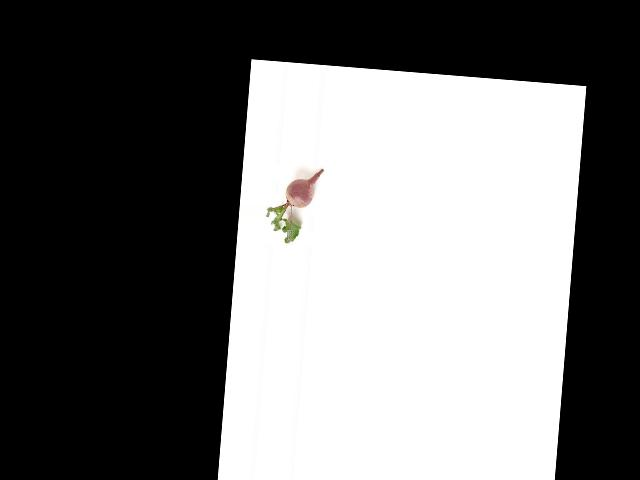beet: (264, 165, 323, 246)
